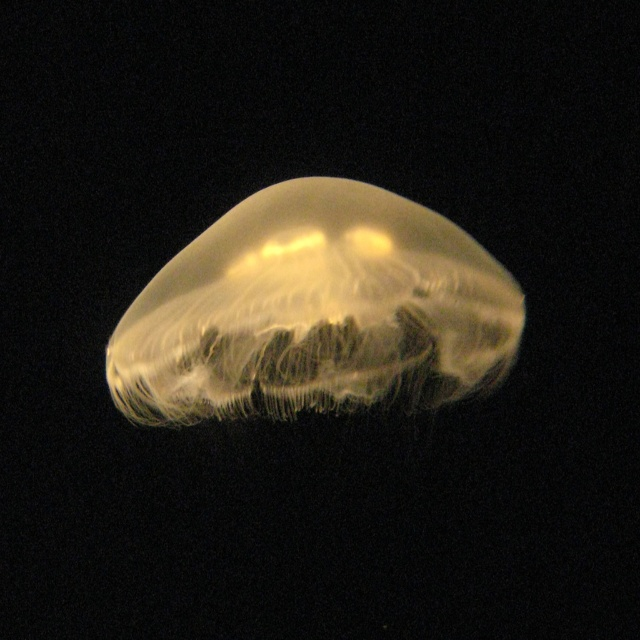Jellyfish: (101, 175, 529, 429)
